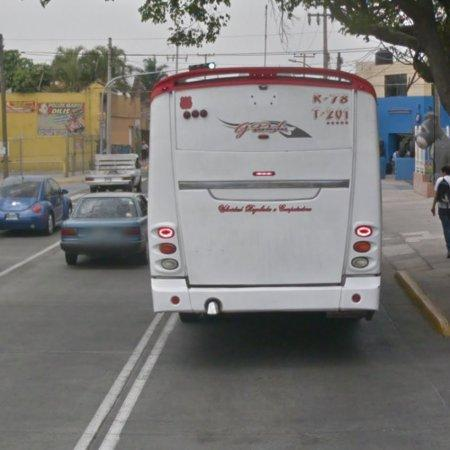buses: (148, 67, 383, 321)
